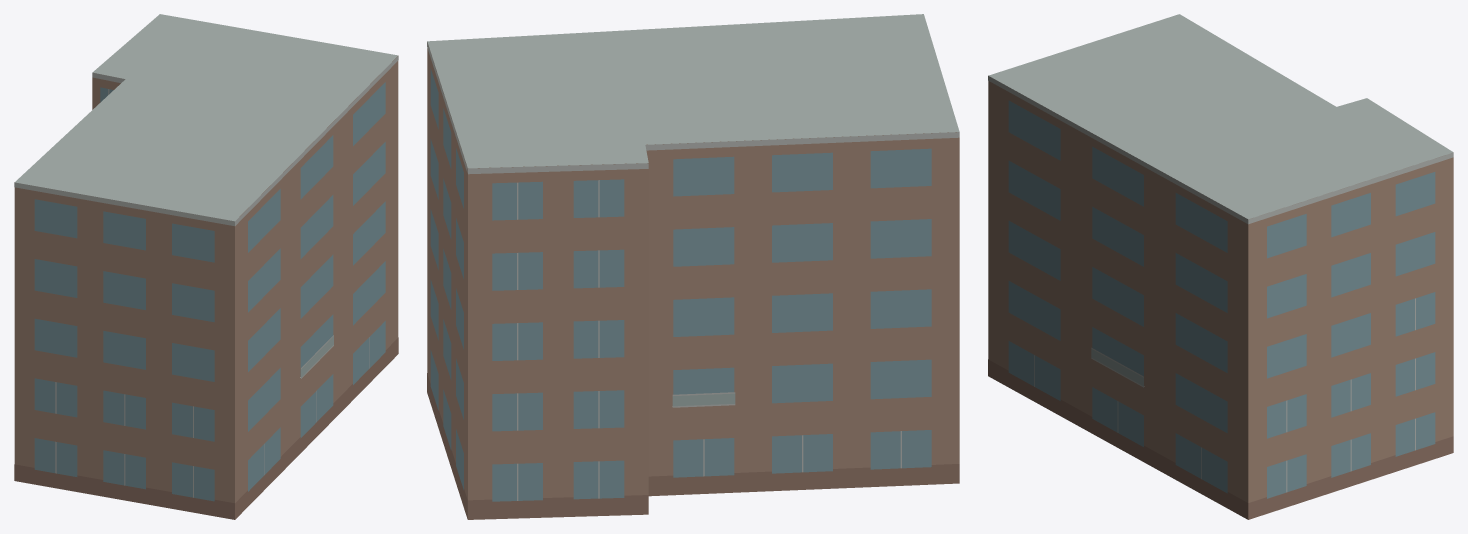
Rendered from survey-upis-32947397.glb.
3 renders of one model, left to right at view 1: azimuth 30°, elevation 25°; view 2: azimuth 150°, elevation 25°; view 3: azimuth 270°, elevation 25°, orthographic. The views are drawn at different scales.
Visible parts, largest first — view 1: survey-upis-32947397.tmp; view 2: survey-upis-32947397.tmp; view 3: survey-upis-32947397.tmp.
Part boxes in pixels (x1,y1,x2,y2): survey-upis-32947397.tmp: (14,14,398,519); survey-upis-32947397.tmp: (427,14,959,519); survey-upis-32947397.tmp: (988,14,1453,519).
Bounding box in the file's own units: 21.7 × 14.8 × 20.78.
